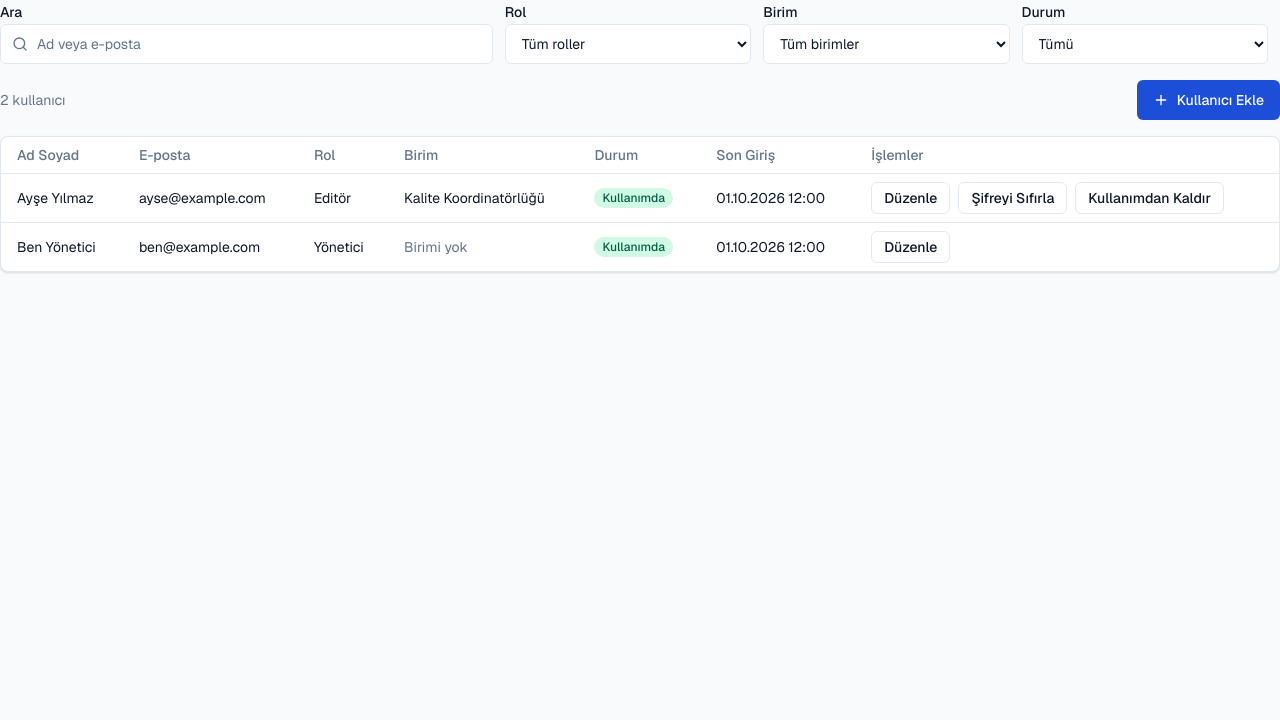
UserAdmin forms › adds a user and shows the generated password once, with a way to copy it
Click the button "Kullanıcı Ekle": (1208, 100) x1=1137 y1=80 x2=1279 y2=120
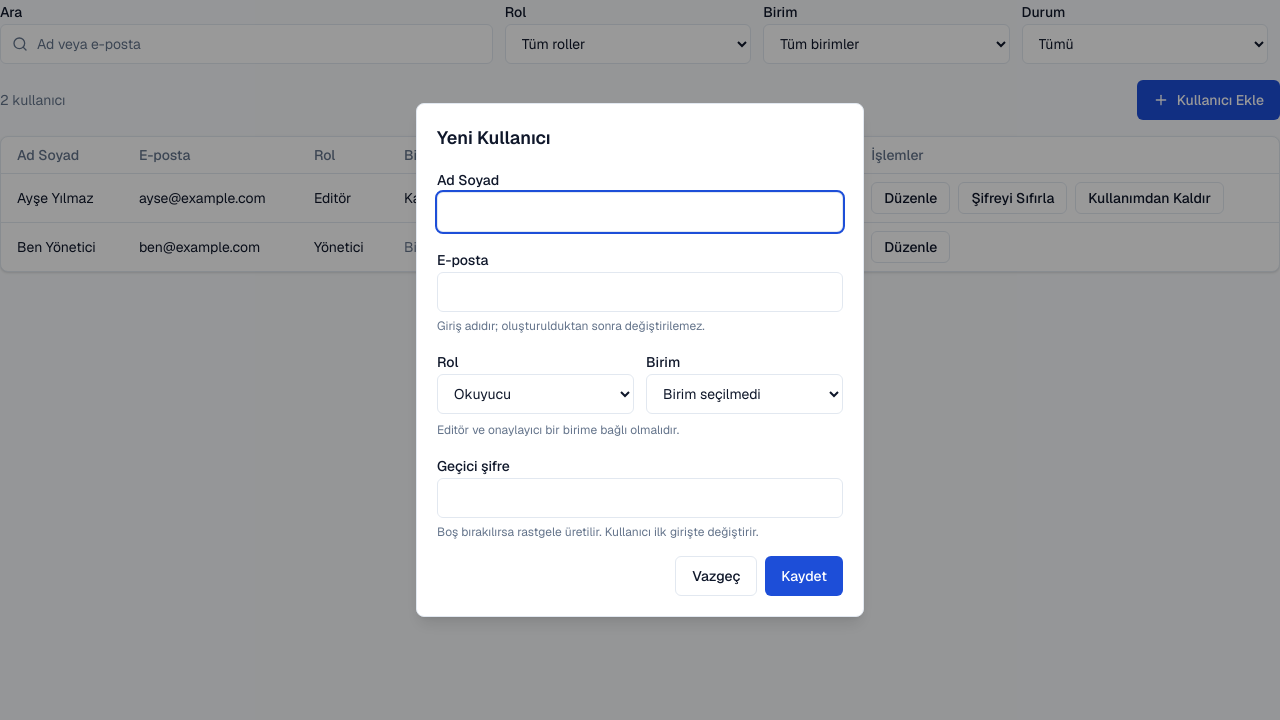
In the field labelled "Ad Soyad": (640, 212) x1=437 y1=192 x2=843 y2=232, type "  Yeni Kişi "
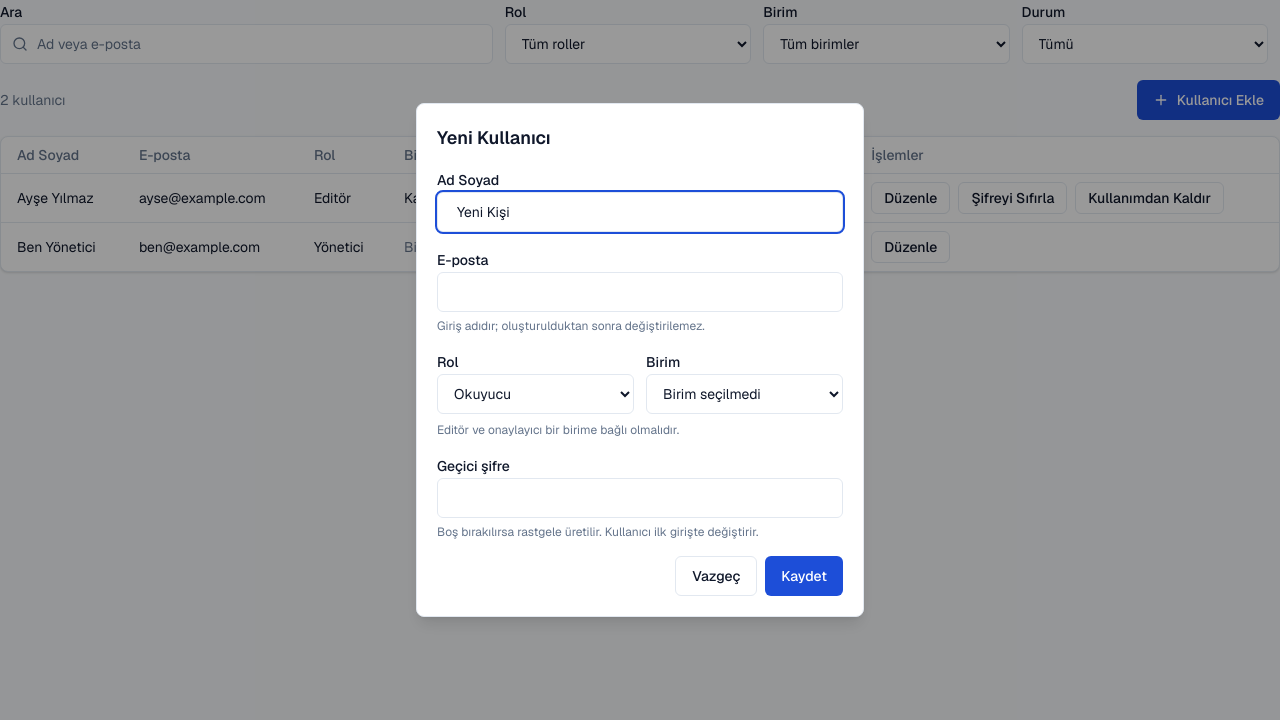
In the field labelled "E-posta": (640, 292) x1=437 y1=272 x2=843 y2=312, type "yeni@example.com"
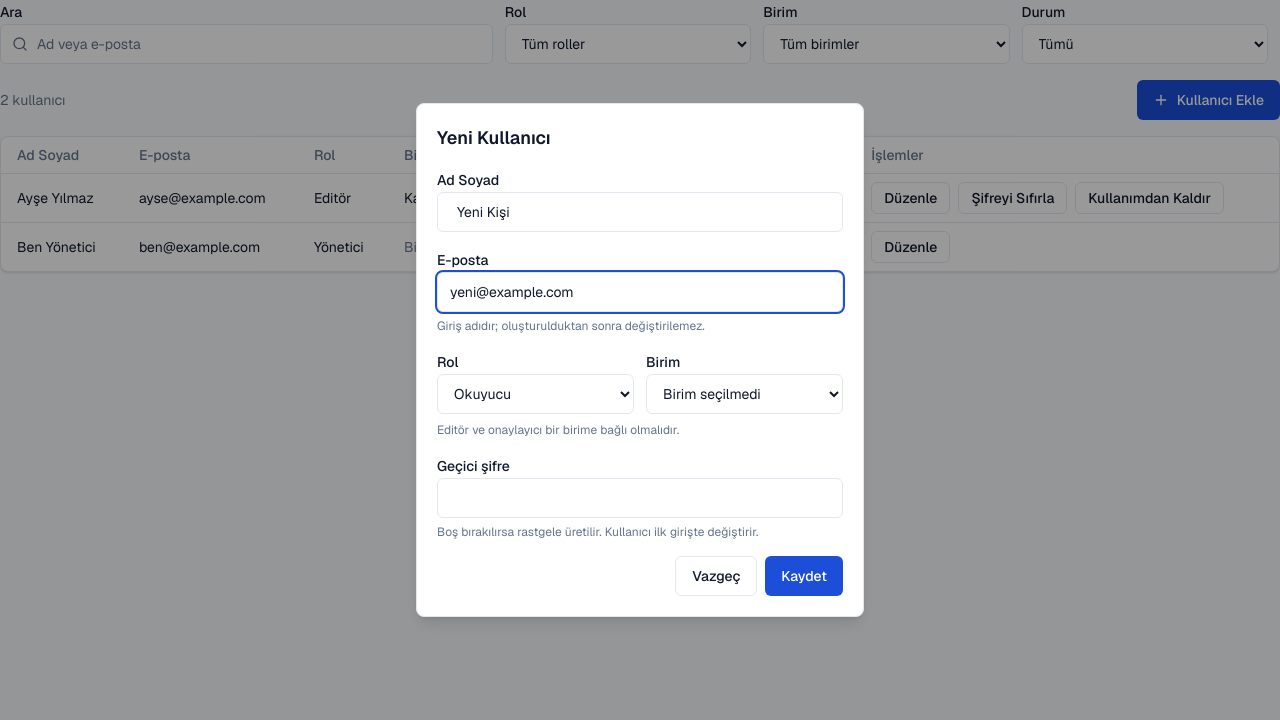
Click the button "Kaydet": (804, 576) x1=765 y1=556 x2=843 y2=596
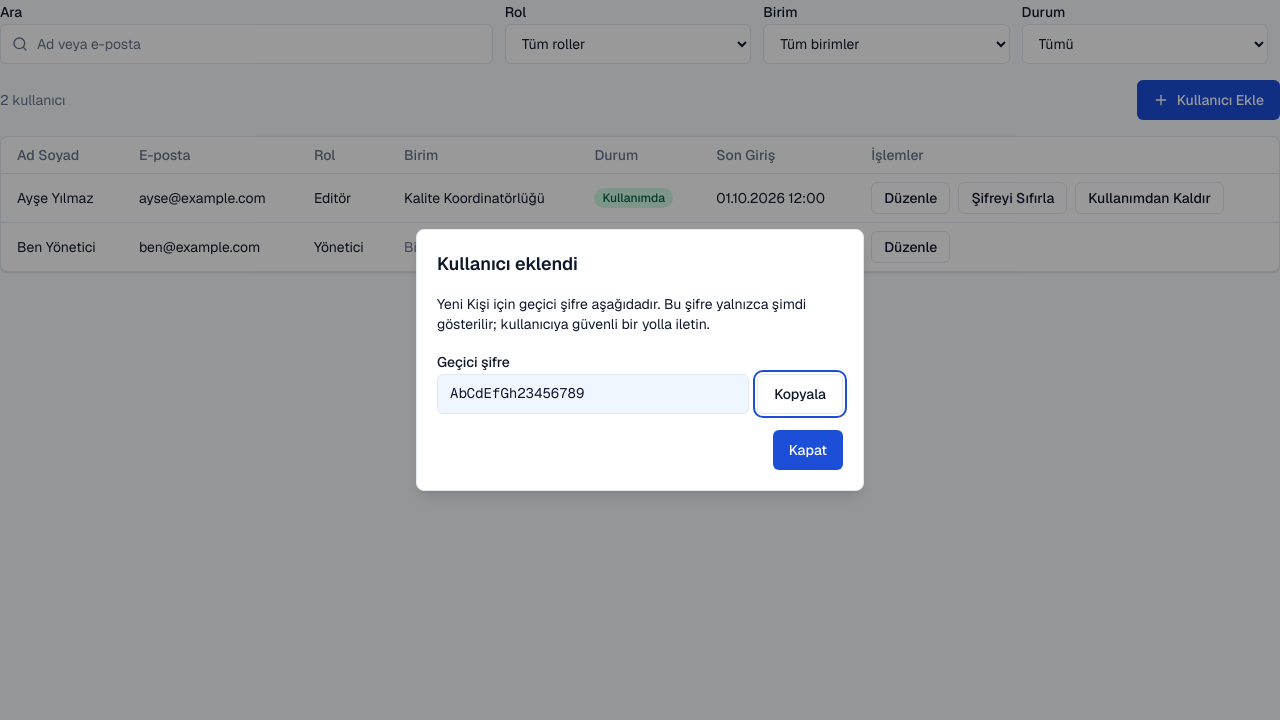
Now the text "AbCdEfGh23456789" is shown, box x1=437 y1=374 x2=749 y2=414
Click the button "Kapat": (808, 450) x1=773 y1=430 x2=843 y2=470
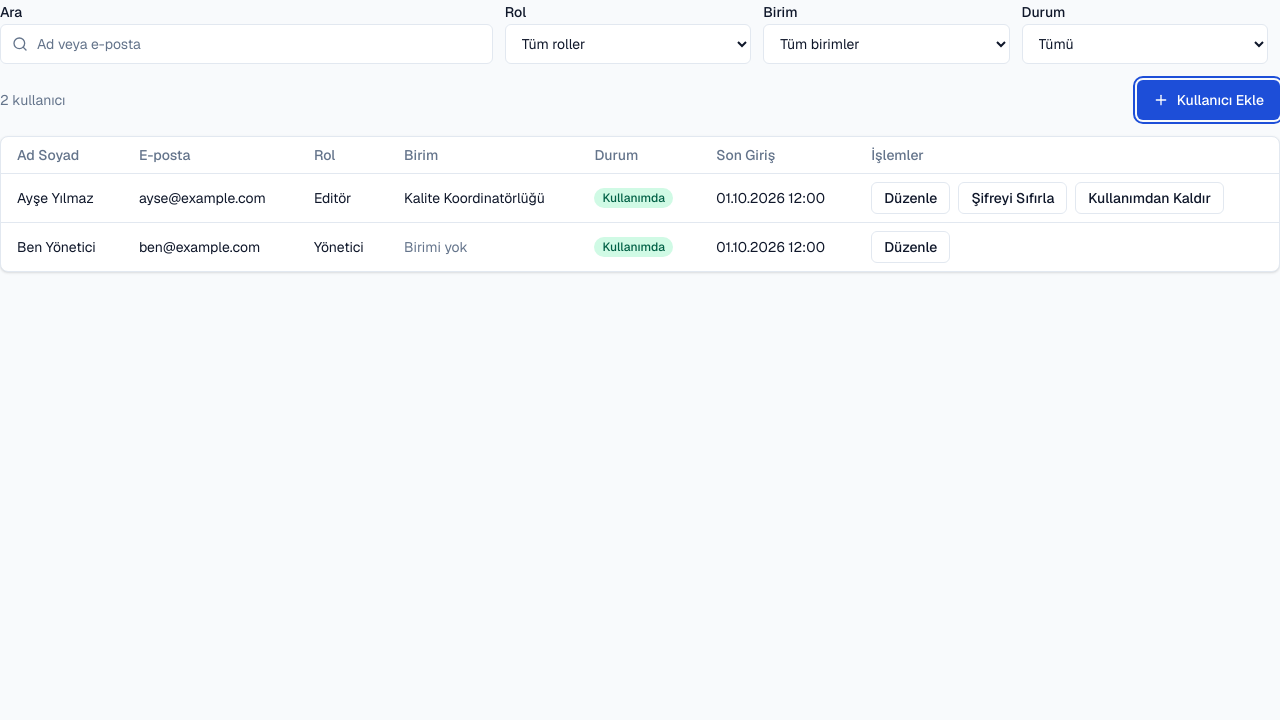
Now the text "AbCdEfGh23456789" is gone
